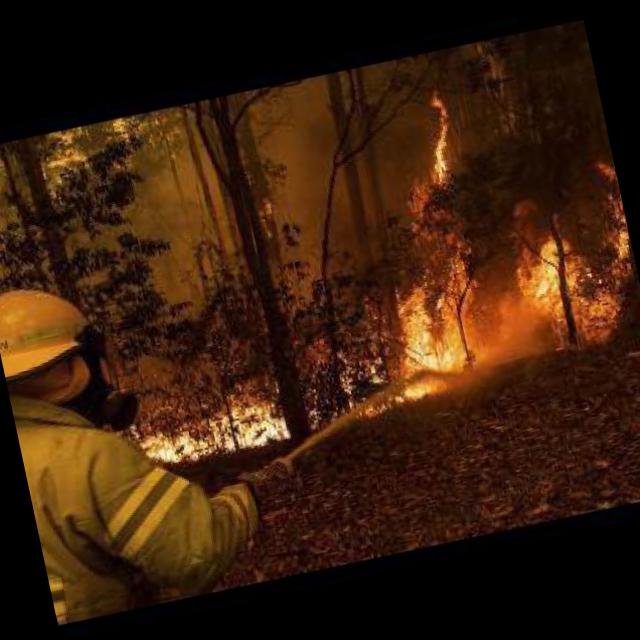fire: (300, 88, 508, 414), (501, 159, 640, 356), (122, 376, 290, 471)
